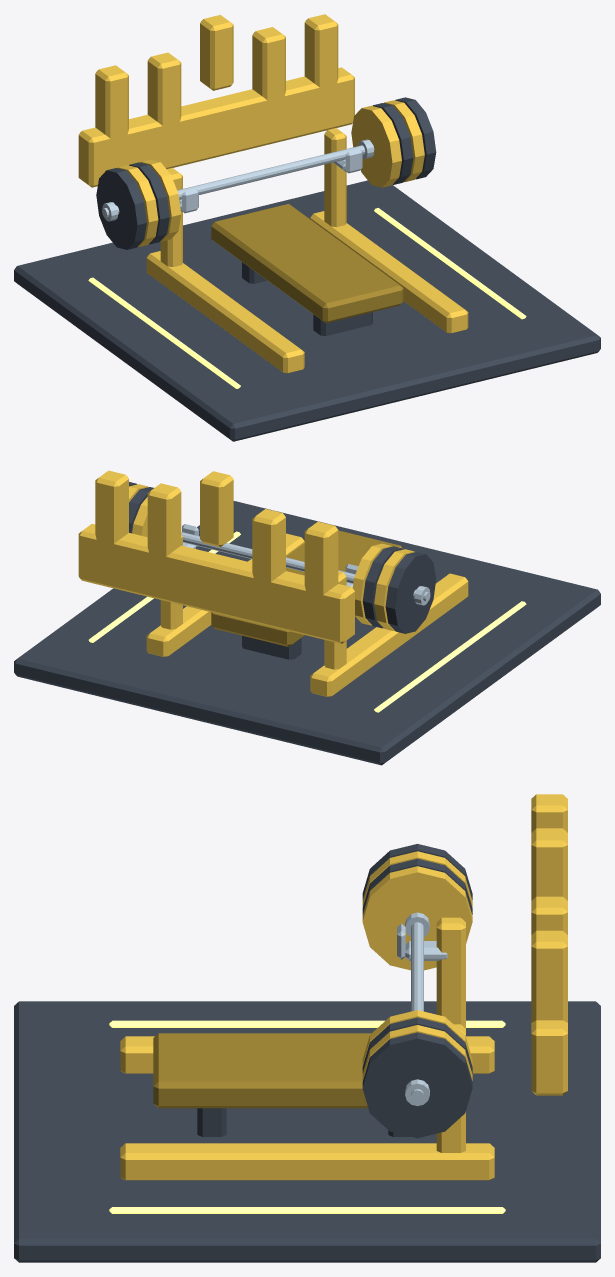
Rendered from Royal.fbx.
The picture shows the model from 3 angles, top to bottom: view 1: azimuth 30°, elevation 25°; view 2: azimuth 150°, elevation 25°; view 3: azimuth 270°, elevation 25°; orthographic projection. The views are drawn at different scales.
Parts seen in each view (by area): view 1: Body.003, Barbell.003; view 2: Body.003, Barbell.003; view 3: Body.003, Barbell.003.
Boxes of the visible parts, bbox=[...] form: Body.003: bbox=[14, 14, 600, 441]; Barbell.003: bbox=[96, 97, 436, 249]; Body.003: bbox=[14, 470, 600, 765]; Barbell.003: bbox=[129, 482, 436, 633]; Body.003: bbox=[14, 794, 600, 1262]; Barbell.003: bbox=[362, 844, 472, 1138].
Size of the model in its own units: 390 by 232 by 400.
